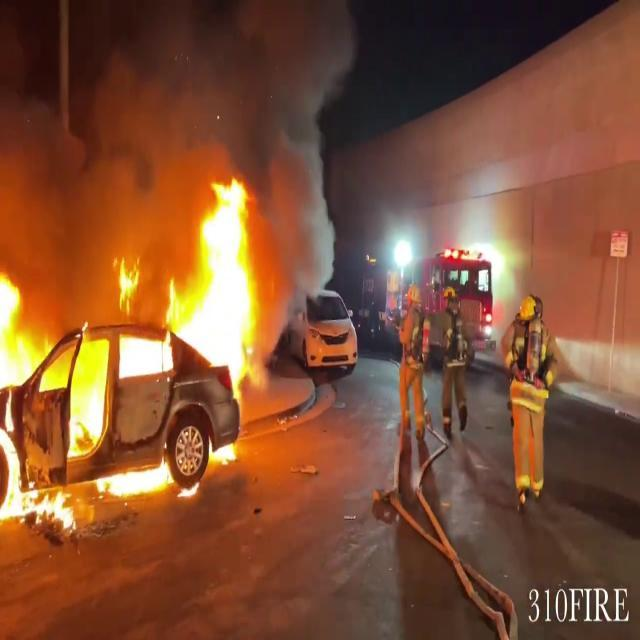Fire: (0, 172, 270, 528)
Smoke: (1, 0, 357, 249)
